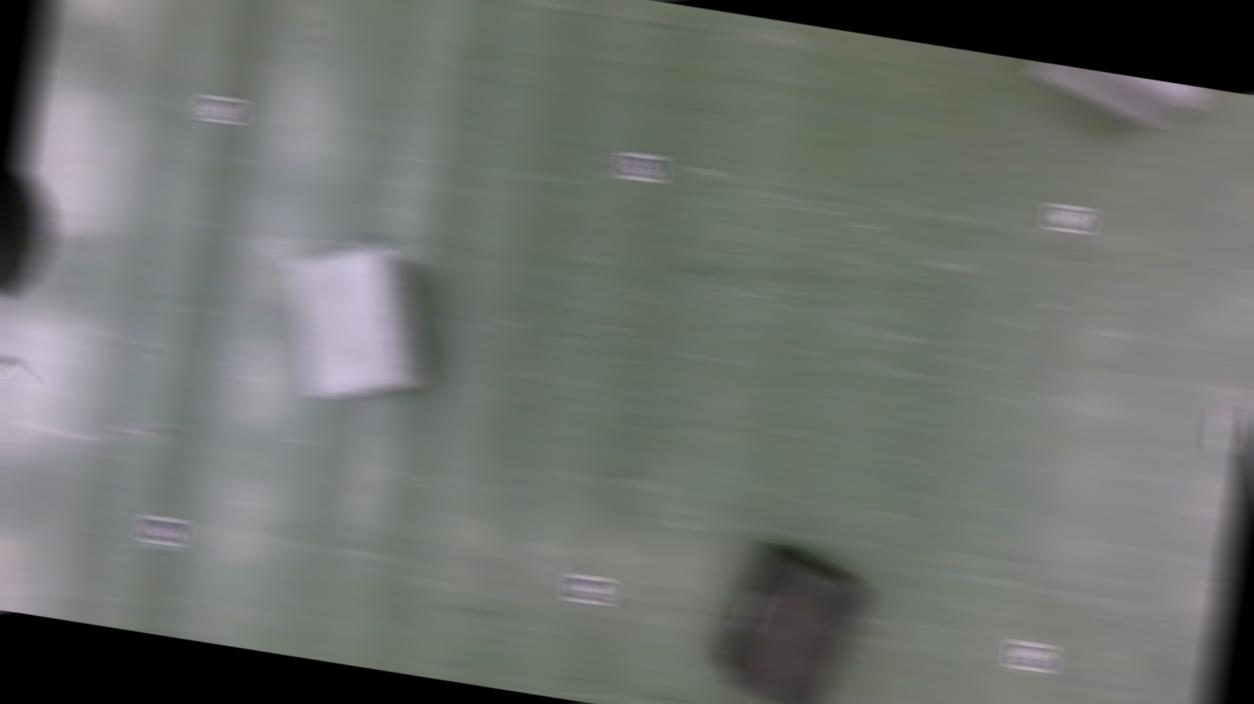probes: (0, 350, 34, 384), (1210, 410, 1234, 454)
rako: (270, 232, 446, 416), (707, 538, 875, 704), (1026, 61, 1212, 140)
